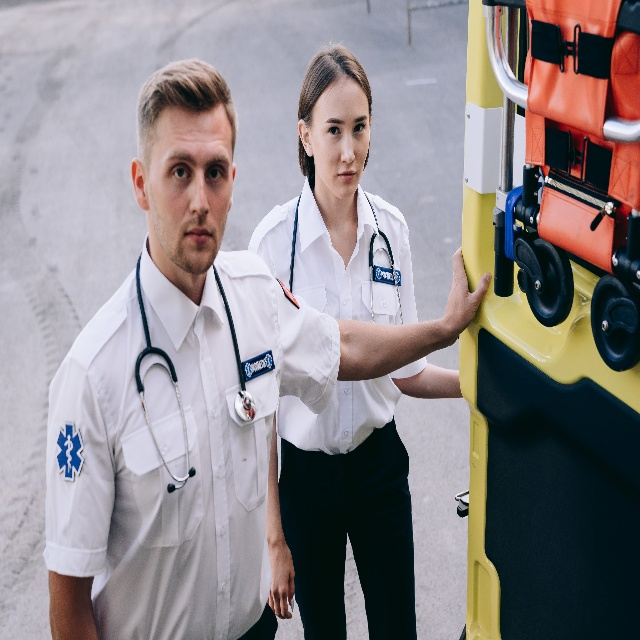Sin_guantes: (442, 245, 491, 333), (267, 536, 294, 615)
